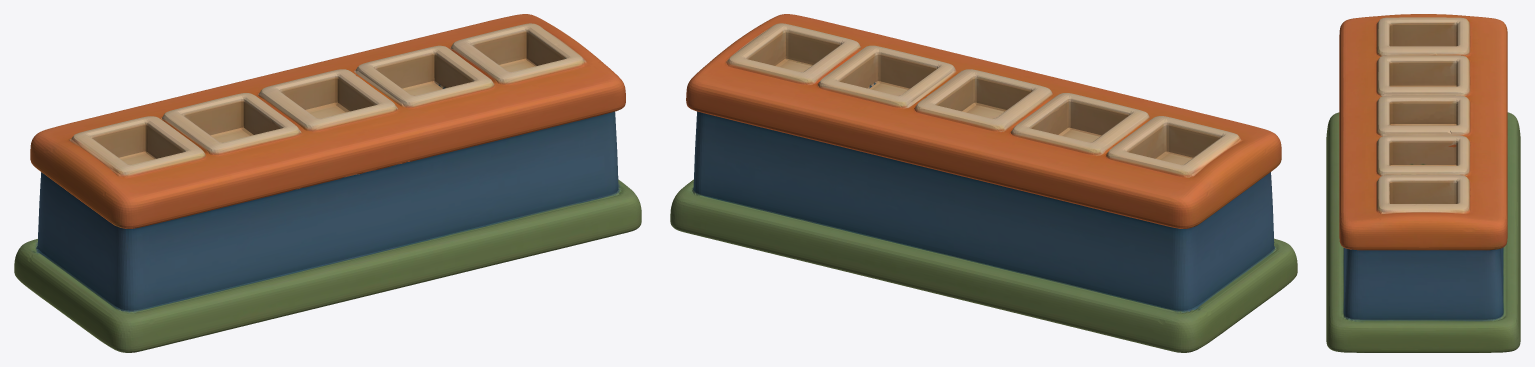
Rendered from next-plinth.glb.
The picture shows the model from 3 angles, left to right: view 1: azimuth 30°, elevation 25°; view 2: azimuth 150°, elevation 25°; view 3: azimuth 270°, elevation 25°; orthographic projection. The views are drawn at different scales.
Visible parts, largest first — view 1: textured_mesh.obj; view 2: textured_mesh.obj; view 3: textured_mesh.obj.
Part boxes in pixels (x1,y1,x2,y2): textured_mesh.obj: (14,14,641,352); textured_mesh.obj: (670,14,1297,352); textured_mesh.obj: (1326,14,1520,352).
Bounding box in the file's own units: 1.99 × 0.5637 × 0.745.
1 material, 1 textured.
